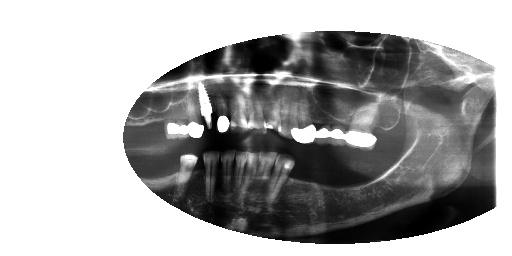i10healthy: (229, 145, 250, 208)
i11decay: (214, 146, 239, 210)
i12healthy: (199, 147, 220, 206)
i13healthy: (176, 151, 199, 209)
i14loss: (160, 152, 181, 200)
i15loss: (143, 154, 163, 193)
i2loss: (346, 158, 366, 211)
i3loss: (328, 158, 349, 212)
i4loss: (316, 159, 338, 213)
i5loss: (299, 158, 325, 210)
i6loss: (286, 156, 309, 215)
i7healthy: (266, 149, 297, 213)
i8healthy: (256, 147, 277, 212)
i9healthy: (243, 146, 262, 216)
u10loss: (209, 76, 232, 134)
u11loss: (195, 72, 218, 131)
u12loss: (183, 77, 208, 138)
u13loss: (159, 81, 191, 141)
u14loss: (148, 89, 171, 139)
u15loss: (138, 94, 156, 139)
u2loss: (345, 90, 381, 150)
u3loss: (327, 89, 350, 151)
u4loss: (312, 85, 332, 150)
u5loss: (288, 88, 320, 146)
u6healthy: (275, 71, 301, 144)
u7healthy: (258, 64, 285, 135)
u8healthy: (242, 64, 269, 136)
u9healthy: (228, 67, 250, 135)
